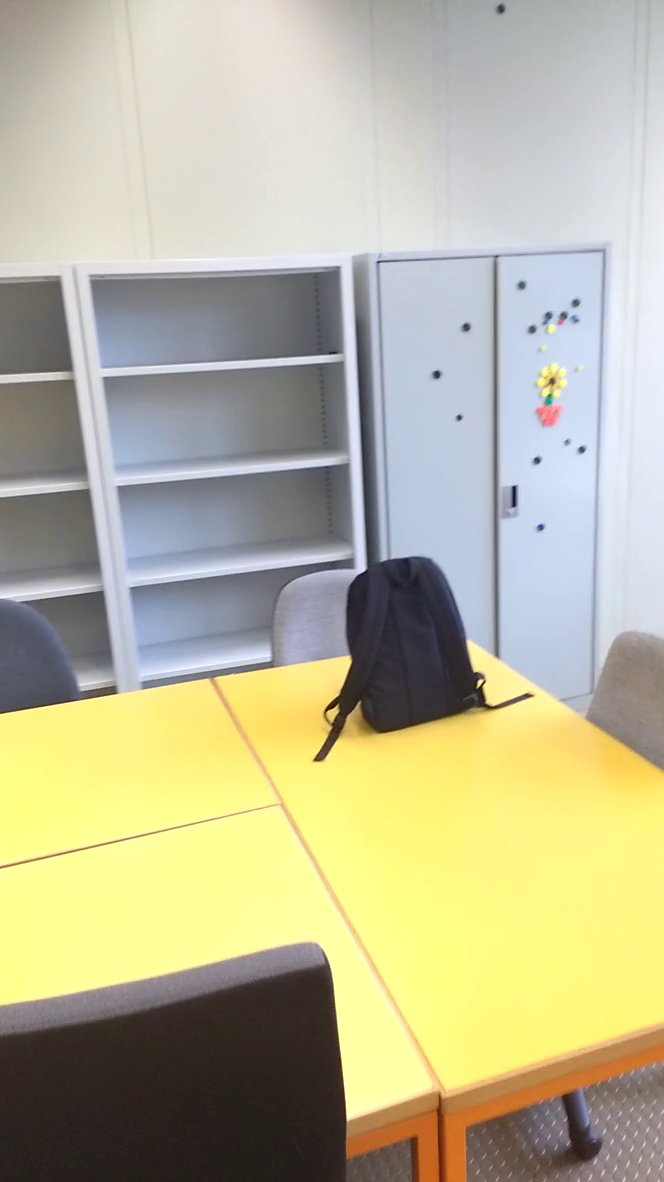bag: (310, 548, 538, 766)
